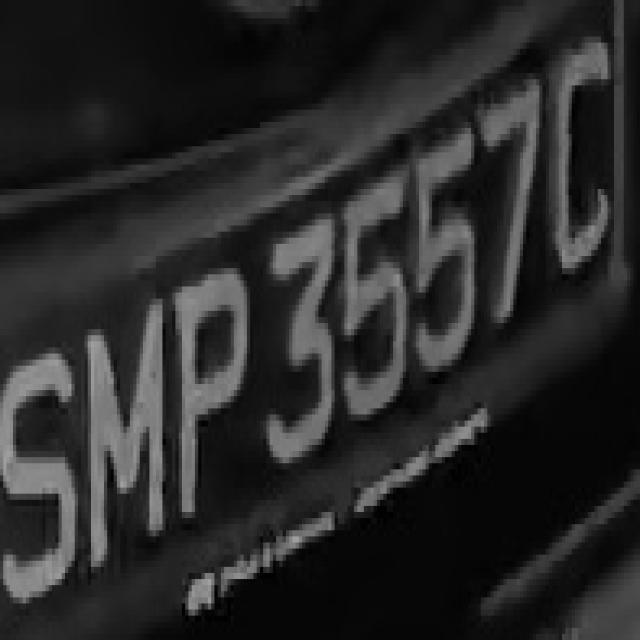3: (264, 208, 344, 476)
5: (403, 128, 487, 390), (334, 158, 416, 426)
7: (465, 73, 539, 335)
C: (552, 31, 620, 280)
M: (81, 292, 172, 567)
P: (169, 256, 257, 530)
S: (0, 311, 81, 634)
